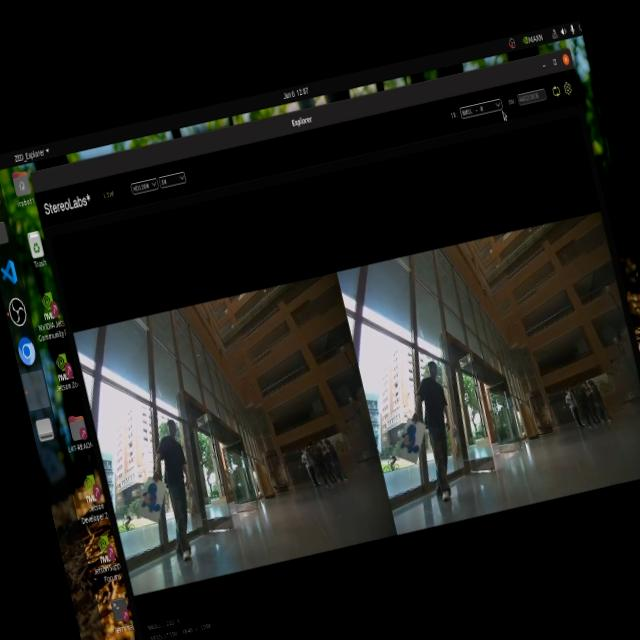blue: (388, 414, 426, 460), (132, 476, 169, 522)
